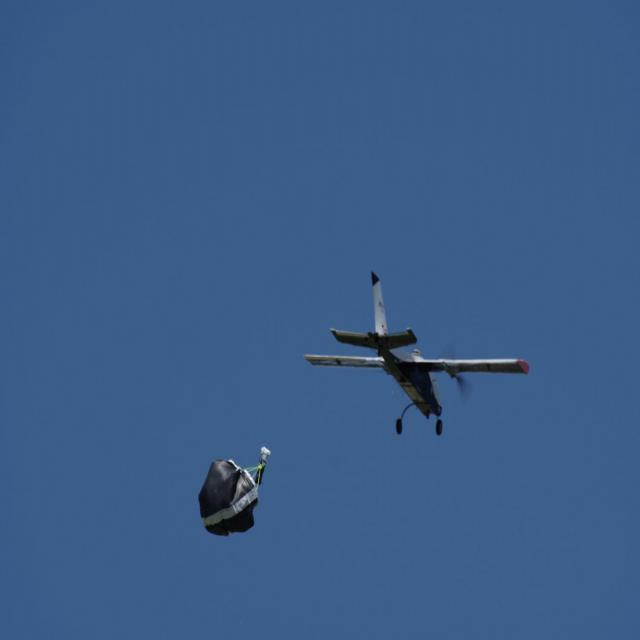UAV: (304, 284, 504, 448)
